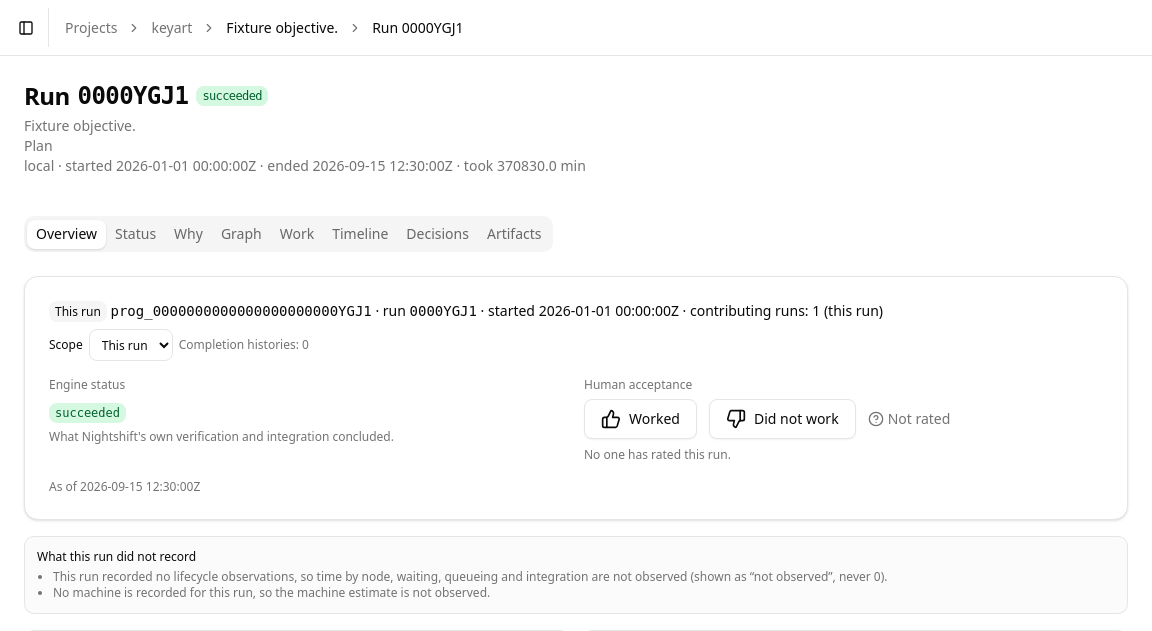
Scenario: the run verdict › saves, changes and clears the verdict, keeping every revision
Click the button "Worked" at (640, 419), box [584,399,697,439]
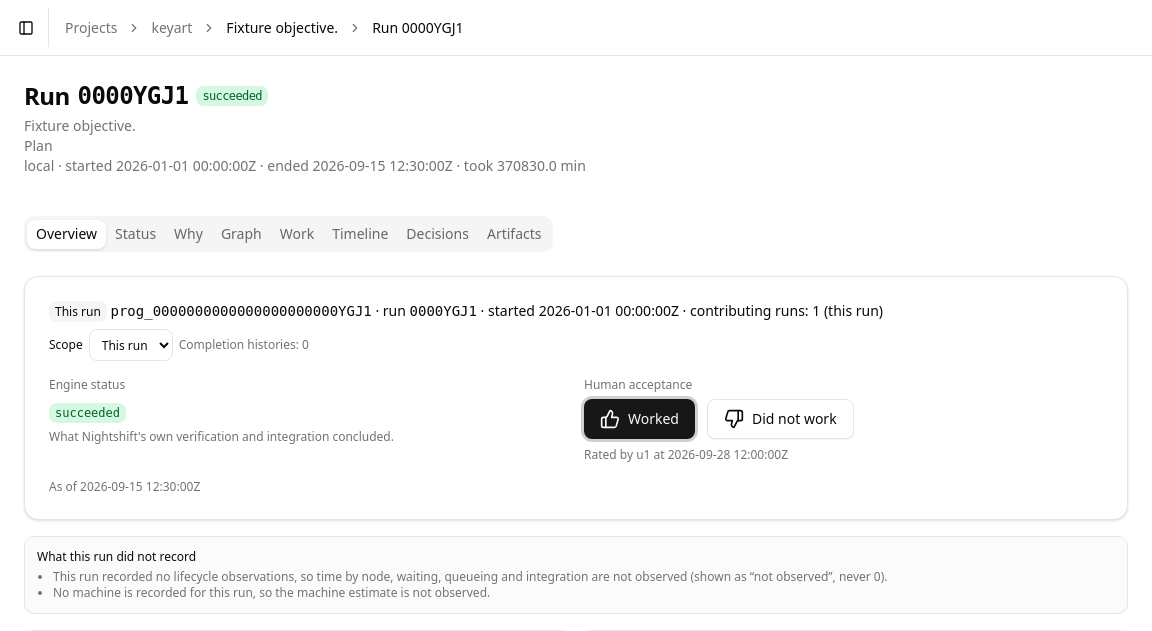
Result: the button "Worked" is pressed at [584,399,695,439]
Click the button "Did not work" at (780, 419), box [707,399,854,439]
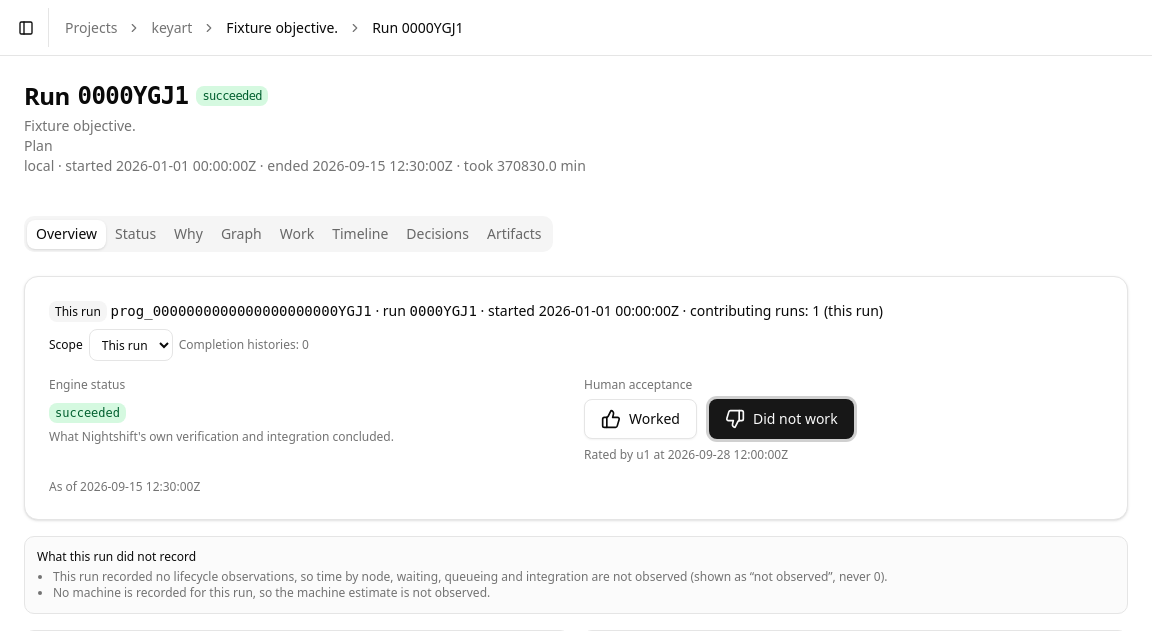
Result: the button "Did not work" is pressed
Result: the button "Worked" is not pressed at [584,399,697,439]
Click the button "Did not work" at (781, 419), box [709,399,854,439]
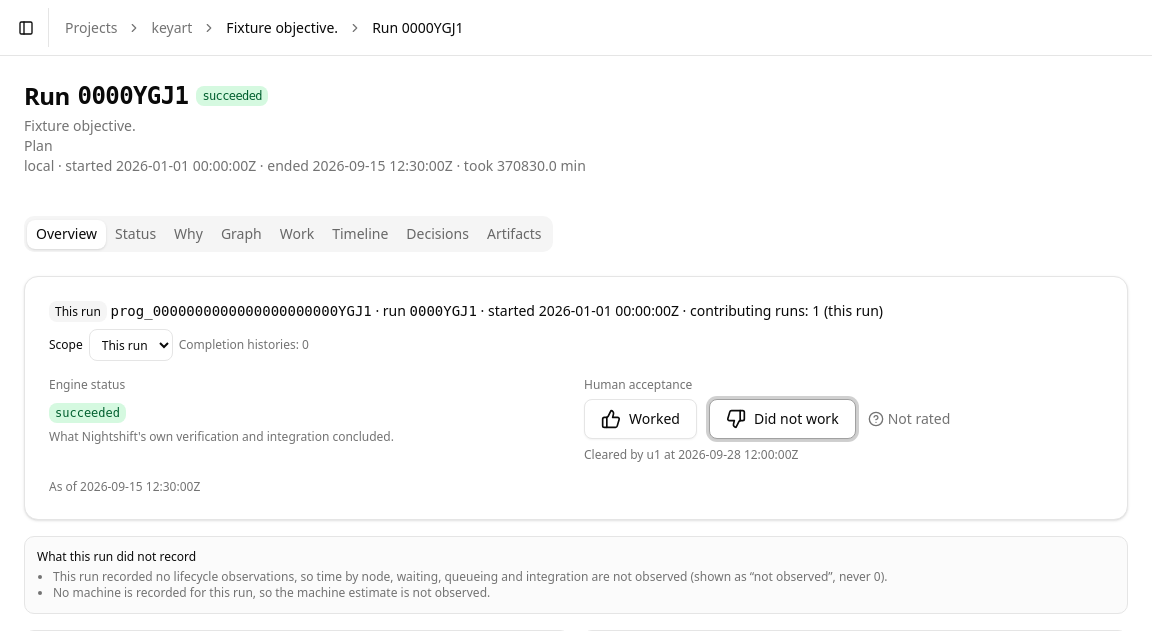
Result: the text "Not rated" is shown at [868,409,950,429]
